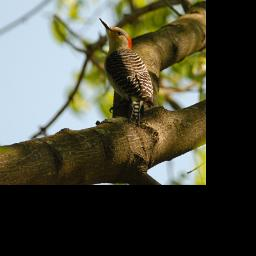Woodpecker: (99, 18, 154, 126)
